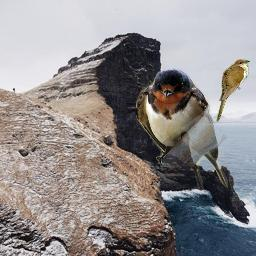Cuckoo: (216, 59, 250, 122)
Swallow: (136, 68, 228, 189)
